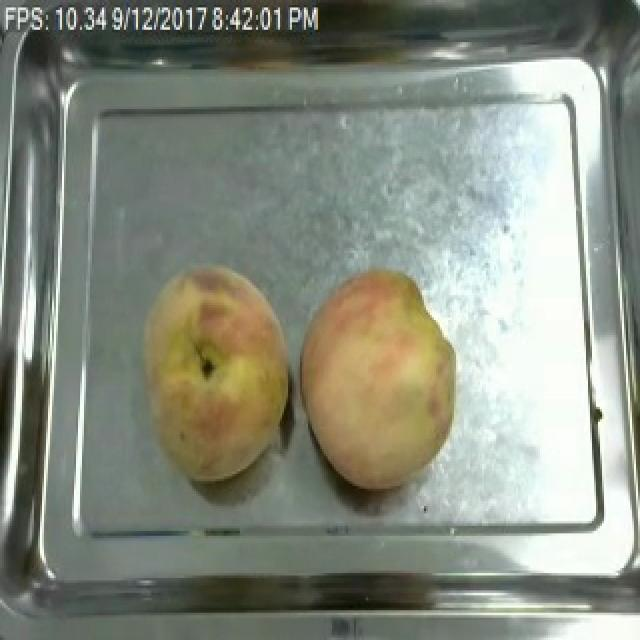Fruit: (294, 266, 468, 496), (132, 261, 298, 488)
